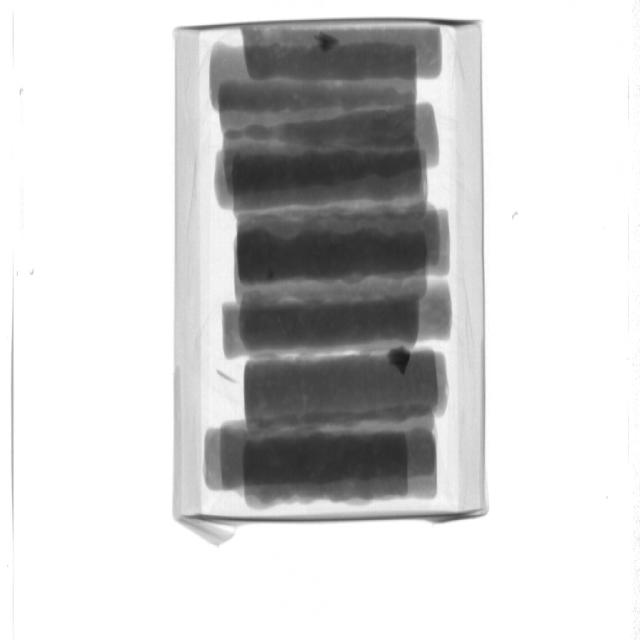ym: (387, 347, 411, 375), (318, 33, 342, 54), (218, 370, 239, 381), (266, 268, 277, 283)
